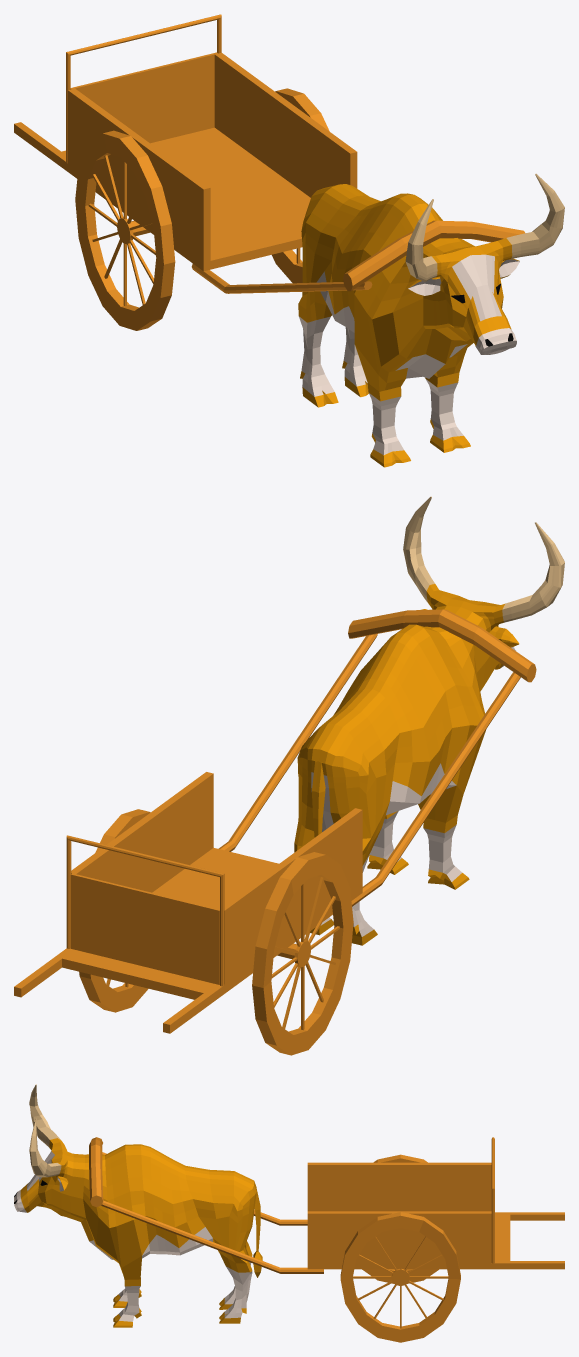
The model's file is Cart Mule.fbx.
3 renders of one model, top to bottom at view 1: azimuth 30°, elevation 25°; view 2: azimuth 150°, elevation 25°; view 3: azimuth 270°, elevation 25°, orthographic. The views are drawn at different scales.
Parts seen in each view (by area): view 1: Cart, Mule; view 2: Cart, Mule; view 3: Cart, Mule.
Boxes of the visible parts, left/top/right/bottom form: Cart: left=14, top=14, right=525, bottom=330; Mule: left=298, top=173, right=564, bottom=467; Cart: left=14, top=609, right=536, bottom=1055; Mule: left=294, top=496, right=564, bottom=945; Cart: left=89, top=1137, right=564, bottom=1342; Mule: left=14, top=1084, right=262, bottom=1327.
Size of the model in its own units: 132 by 214 by 503.
